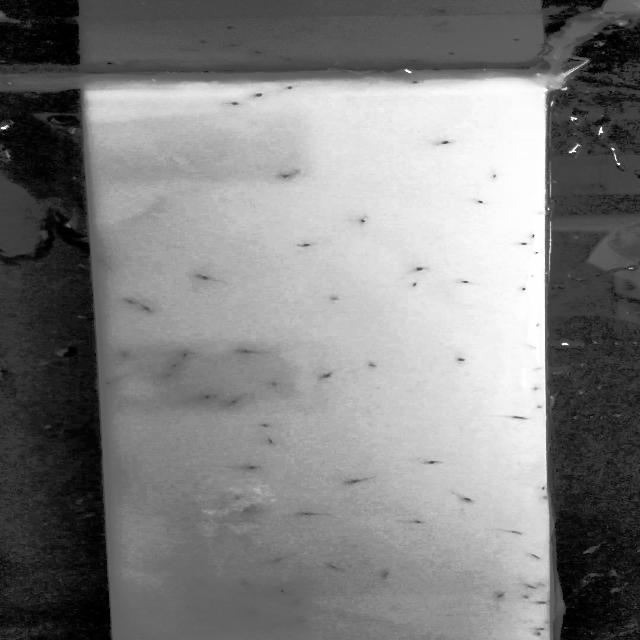shrimp: (294, 508, 334, 518), (79, 255, 104, 269), (340, 474, 374, 484), (432, 136, 458, 148), (321, 562, 346, 574), (494, 526, 522, 536), (170, 350, 189, 364), (257, 556, 285, 564), (375, 568, 393, 580), (309, 373, 336, 381), (453, 494, 474, 504), (278, 170, 299, 180), (486, 170, 499, 186), (239, 606, 262, 615), (162, 362, 181, 372), (412, 458, 448, 463), (408, 276, 423, 288), (406, 516, 428, 524), (290, 242, 312, 250), (286, 596, 303, 606), (253, 90, 270, 100), (239, 579, 260, 587), (488, 591, 512, 598), (522, 599, 550, 605), (412, 262, 426, 274), (294, 614, 309, 625), (162, 369, 178, 379), (458, 275, 474, 285), (474, 195, 488, 206), (200, 391, 217, 400), (503, 414, 528, 420), (237, 504, 255, 512), (455, 353, 469, 363), (527, 246, 541, 256), (509, 239, 526, 247), (139, 303, 152, 313), (228, 396, 244, 404), (268, 380, 284, 388), (120, 296, 136, 304), (521, 232, 537, 240), (284, 83, 301, 90), (518, 284, 531, 293), (192, 274, 211, 280), (276, 588, 290, 596), (529, 554, 543, 562), (246, 464, 262, 471), (358, 216, 372, 224), (120, 351, 130, 362), (526, 580, 538, 589), (265, 438, 278, 446), (407, 80, 424, 86), (226, 103, 246, 108), (531, 625, 547, 631), (94, 382, 111, 387), (361, 363, 378, 368), (237, 348, 250, 354), (529, 386, 538, 394), (534, 631, 546, 636), (260, 424, 275, 428), (534, 403, 544, 408), (521, 594, 532, 598)
